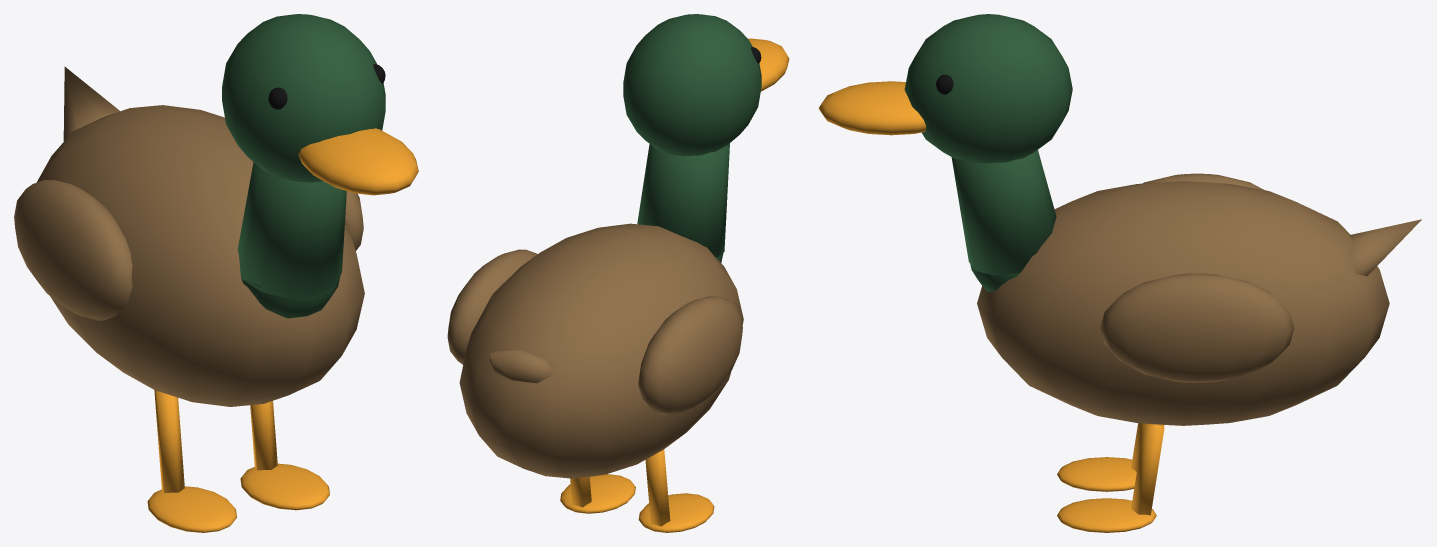
The model's file is duck_brown.glb.
The picture shows the model from 3 angles, left to right: view 1: azimuth 30°, elevation 25°; view 2: azimuth 150°, elevation 25°; view 3: azimuth 270°, elevation 25°; orthographic projection. The views are drawn at different scales.
Parts seen in each view (by area): view 1: Body, Head; view 2: Body, Head; view 3: Body, Head.
Boxes of the visible parts, x1,y1,x2,y2 form: Body: (14, 66, 364, 532); Head: (222, 14, 418, 318); Body: (447, 223, 743, 532); Head: (623, 14, 789, 262); Body: (977, 173, 1421, 532); Head: (818, 14, 1072, 292).
Bounding box in the file's own units: 0.219 × 0.383 × 0.4346.
